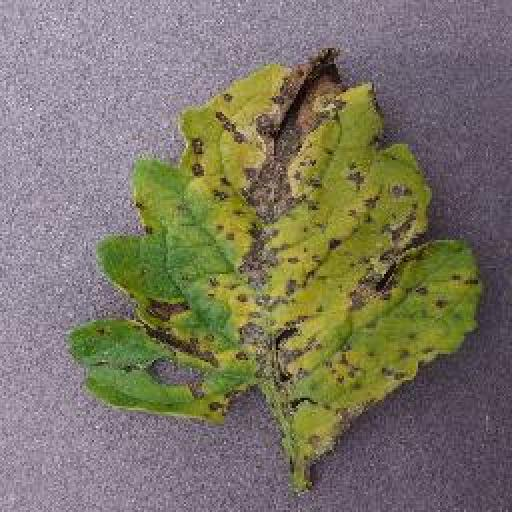Septoria: (72, 38, 483, 458)
